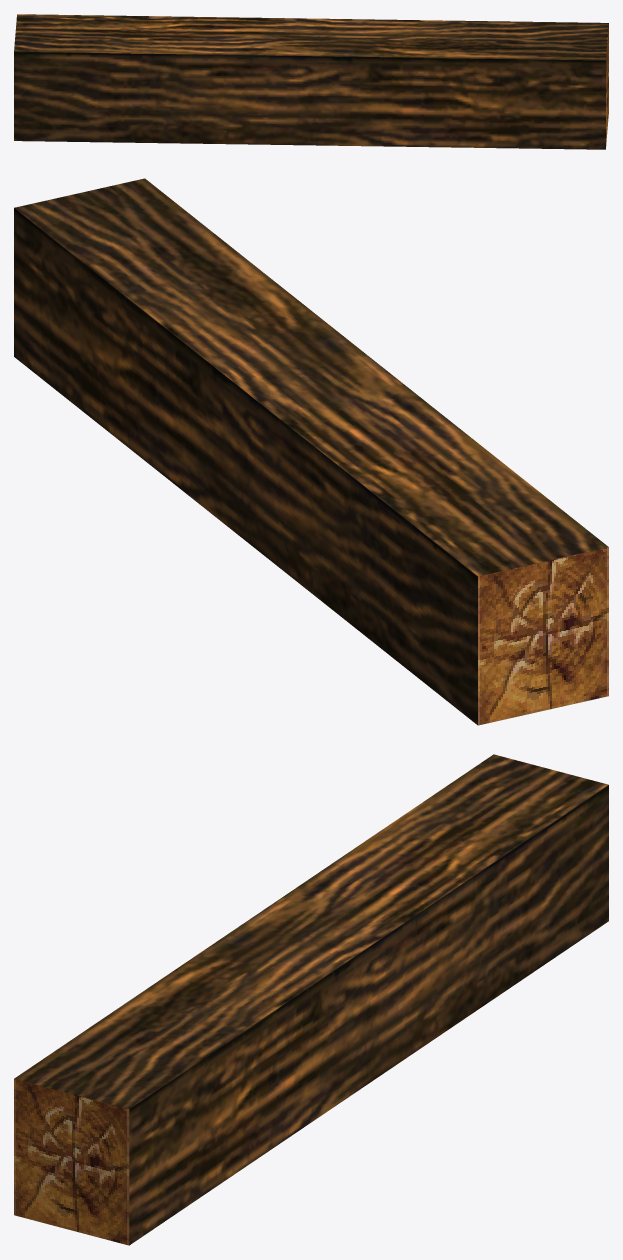
The model's file is OVERHILL_A_01_BOX86.fbx.
3 renders of one model, top to bottom at view 1: azimuth 30°, elevation 25°; view 2: azimuth 150°, elevation 25°; view 3: azimuth 270°, elevation 25°, orthographic. The views are drawn at different scales.
Parts seen in each view (by area): view 1: OVERHILL_A_01_BOX86; view 2: OVERHILL_A_01_BOX86; view 3: OVERHILL_A_01_BOX86.
Boxes of the visible parts, x1,y1,x2,y2 form: OVERHILL_A_01_BOX86: (14,14,608,149); OVERHILL_A_01_BOX86: (14,178,608,725); OVERHILL_A_01_BOX86: (14,754,608,1245).
Bounding box in the file's own units: 13064 × 2342 × 9256.
Materials: 2 (2 with a texture image).
